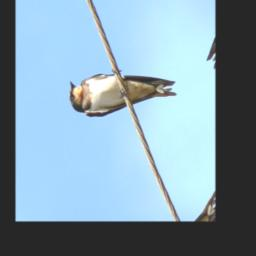Swallow: (62, 25, 180, 155)
